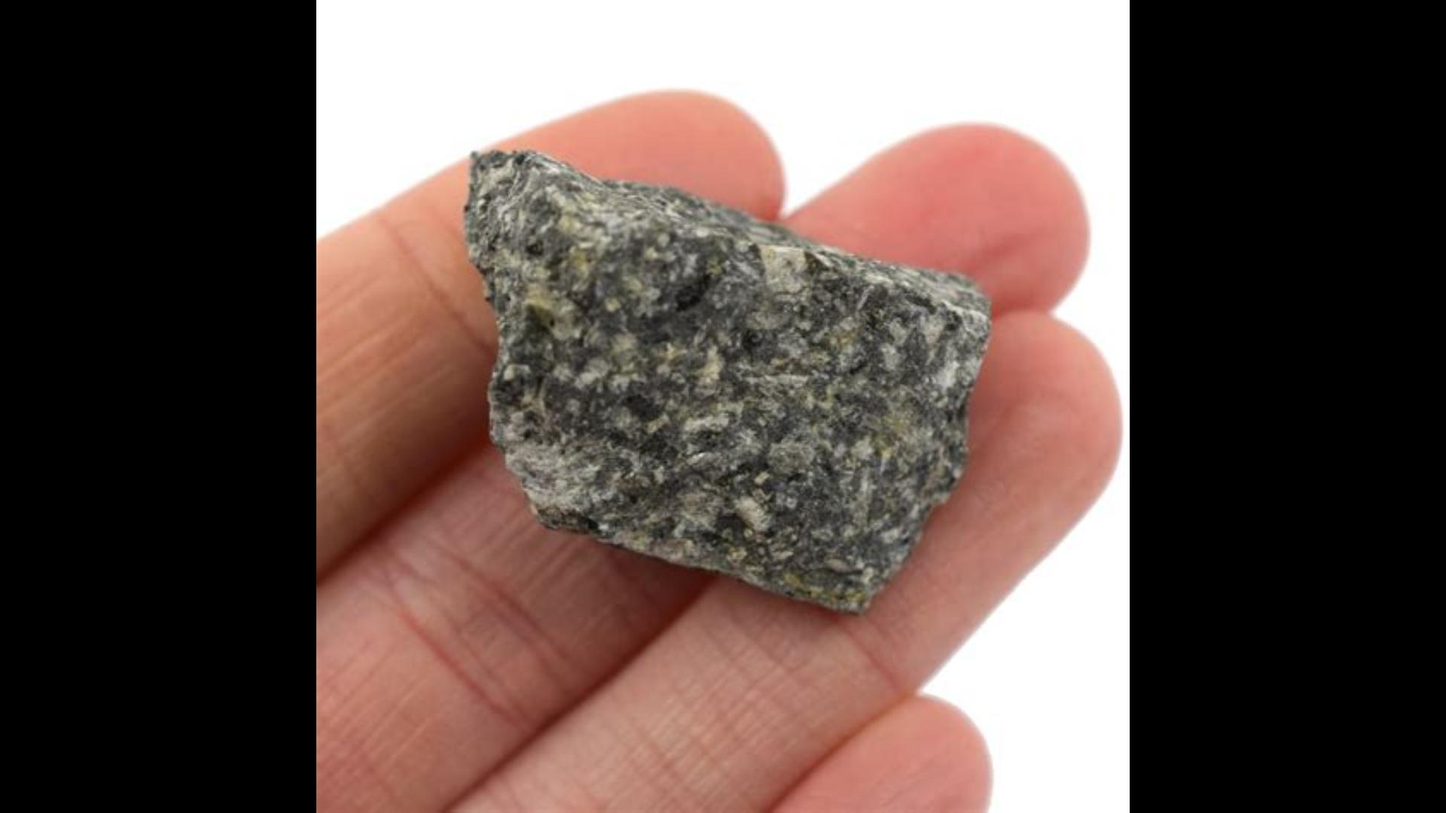rock: (469, 153, 986, 609)
